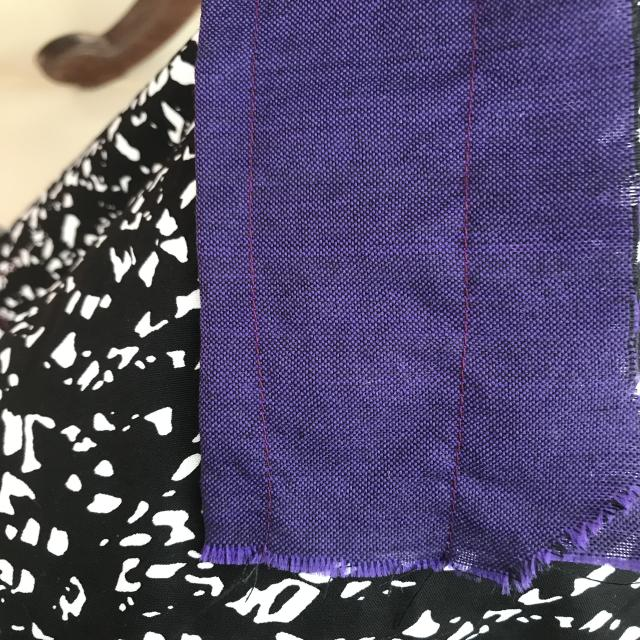good: (232, 166, 275, 314), (449, 186, 480, 390), (457, 40, 499, 161)
